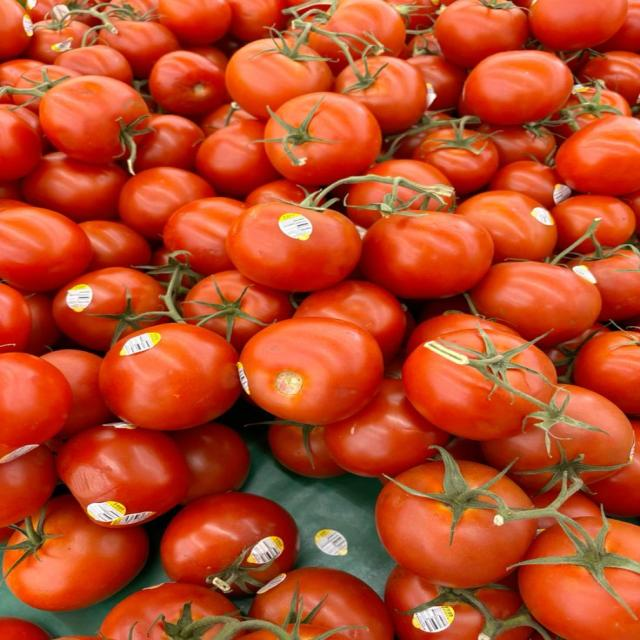tomato: (403, 329, 555, 440), (376, 482, 535, 587), (6, 495, 148, 611), (482, 385, 633, 491), (239, 318, 382, 424), (100, 323, 240, 429), (519, 518, 639, 639), (160, 492, 299, 594), (57, 424, 189, 528), (325, 378, 449, 476), (227, 202, 361, 291), (360, 211, 493, 298), (470, 261, 601, 346), (265, 92, 381, 185), (249, 567, 393, 639), (54, 267, 166, 351), (40, 76, 148, 163), (294, 280, 406, 361), (226, 38, 333, 120), (182, 271, 293, 350), (462, 51, 573, 125), (0, 205, 92, 290), (0, 353, 72, 461), (100, 582, 236, 639), (21, 152, 128, 223), (385, 565, 485, 639), (334, 55, 426, 135), (455, 190, 557, 262), (118, 166, 216, 239), (556, 115, 639, 195), (196, 120, 281, 198), (169, 423, 250, 504), (162, 197, 246, 275), (434, 0, 528, 68), (42, 350, 113, 438), (414, 126, 498, 195), (574, 331, 639, 414), (313, 0, 406, 58), (568, 249, 639, 321), (148, 50, 225, 116), (528, 0, 627, 50), (551, 194, 635, 250), (100, 19, 179, 78), (407, 312, 517, 354), (0, 445, 57, 526), (554, 81, 632, 138), (268, 424, 346, 477), (134, 114, 205, 172), (489, 160, 570, 209), (544, 322, 611, 377), (80, 220, 151, 271), (588, 447, 639, 517), (478, 124, 556, 167), (158, 0, 231, 45), (13, 65, 80, 114), (407, 55, 466, 109), (54, 44, 133, 84), (0, 109, 42, 180), (25, 20, 88, 64), (0, 103, 50, 151), (228, 0, 286, 41), (367, 159, 451, 187), (594, 0, 639, 52), (25, 293, 60, 355), (0, 283, 31, 352), (0, 0, 33, 61), (388, 0, 452, 30), (199, 103, 256, 136), (245, 179, 313, 206), (0, 58, 41, 87), (0, 616, 51, 639), (559, 492, 599, 518), (295, 624, 346, 639)
